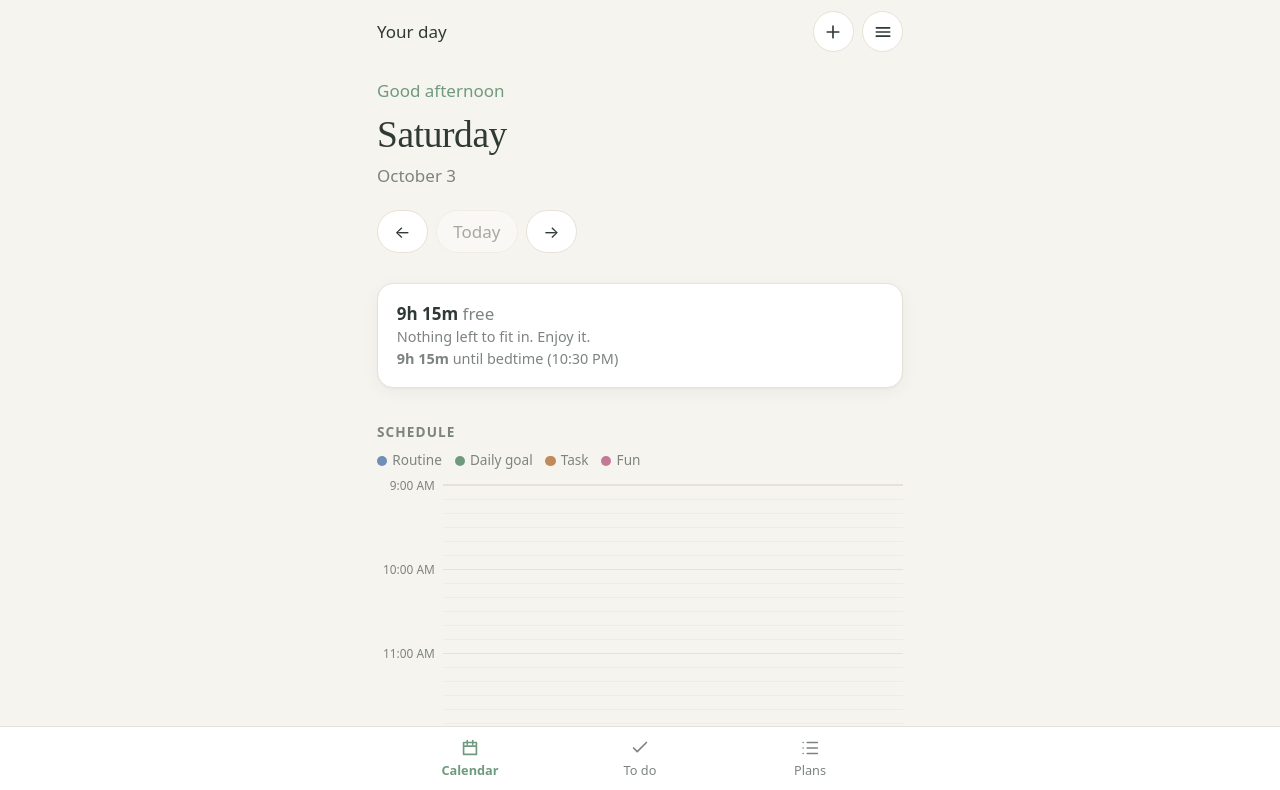
the day calendar › adds a goal at a set time from the editor
Check: the heading "Saturday" is shown, box x1=377 y1=114 x2=507 y2=155
Click the button named "Add".
click(833, 32)  # box x1=813 y1=11 x2=854 y2=52
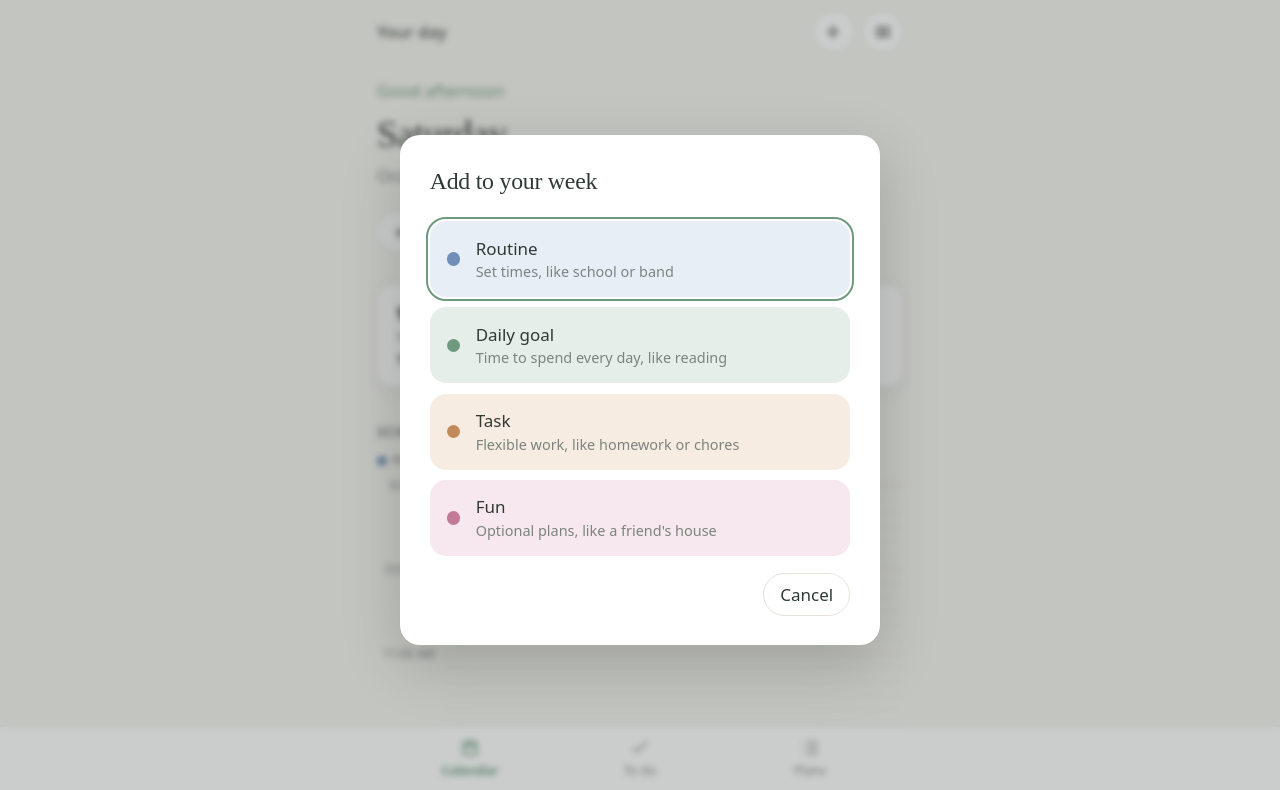
Click the button "Daily goal Time to spend every day, like reading".
click(640, 345)  # box x1=430 y1=307 x2=850 y2=383
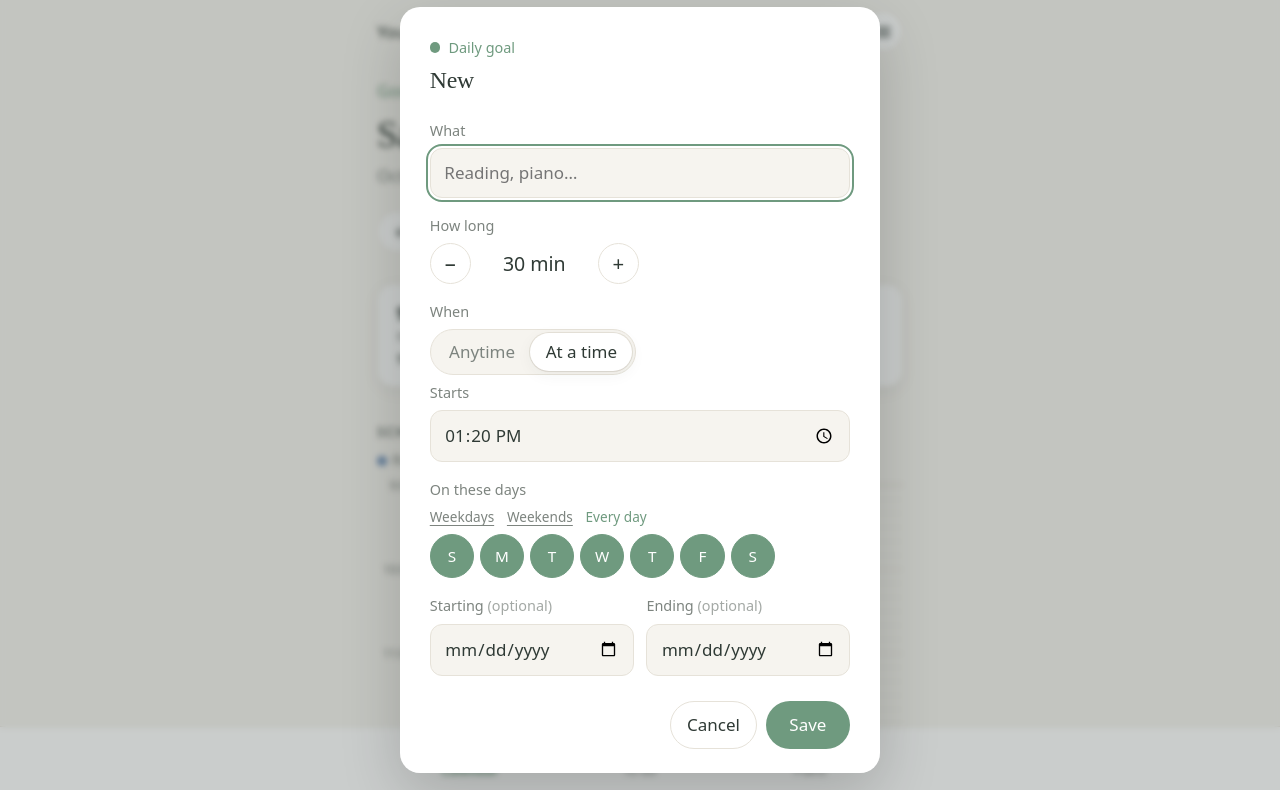
Type "Piano" into the field labelled "What".
click(640, 173); type("Piano")  # box x1=430 y1=148 x2=850 y2=198
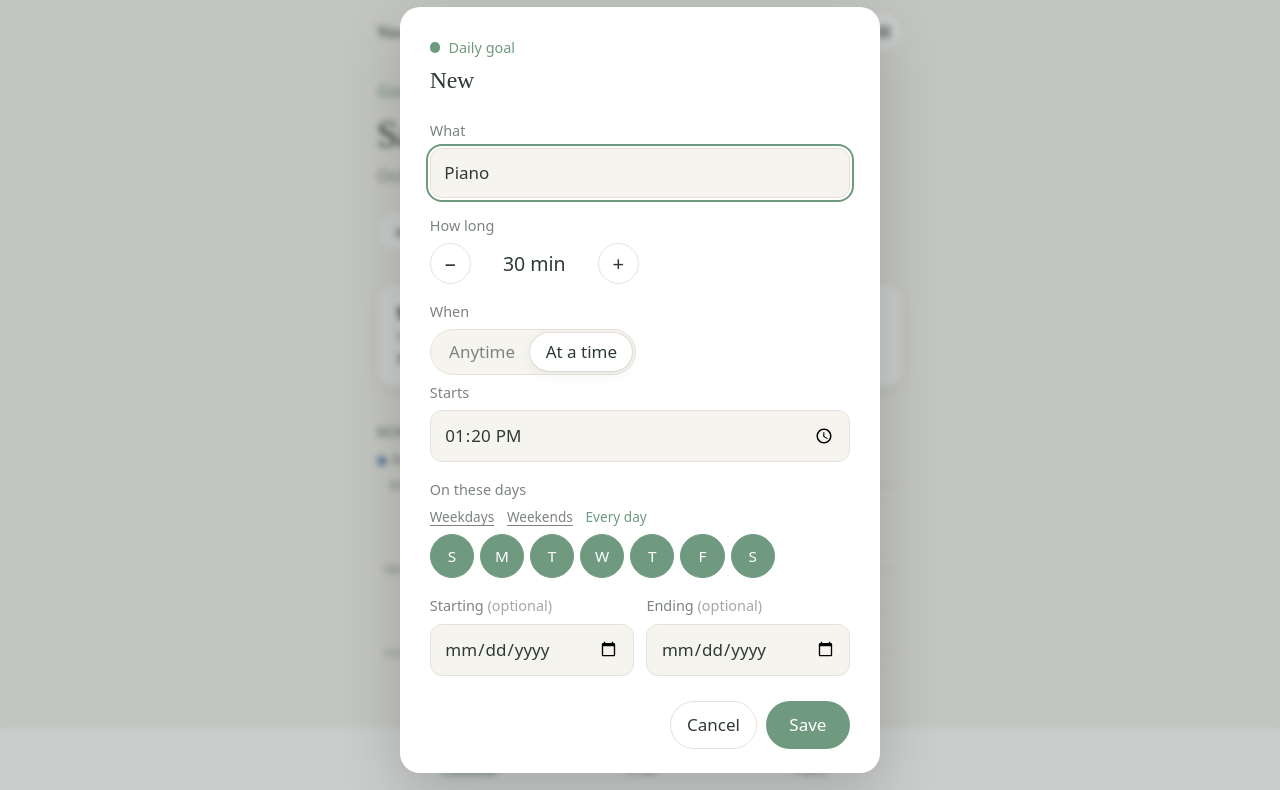
Check: the time field labelled "Starts" holds "13:20"
Replace the text in the time field labelled "Starts" with "16:30" at (640, 436), box x1=430 y1=410 x2=850 y2=462
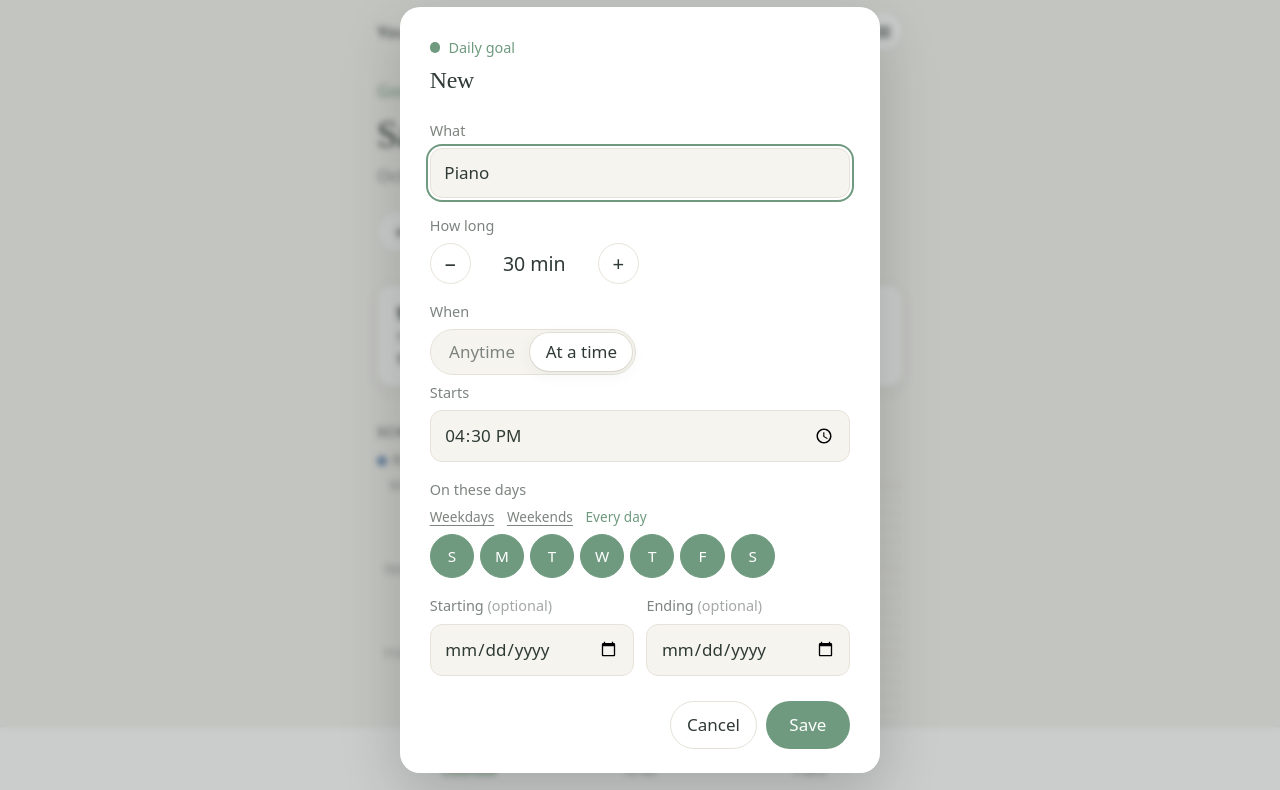
Click the button "Save".
click(808, 725)  # box x1=766 y1=701 x2=850 y2=749
(page scrolled)
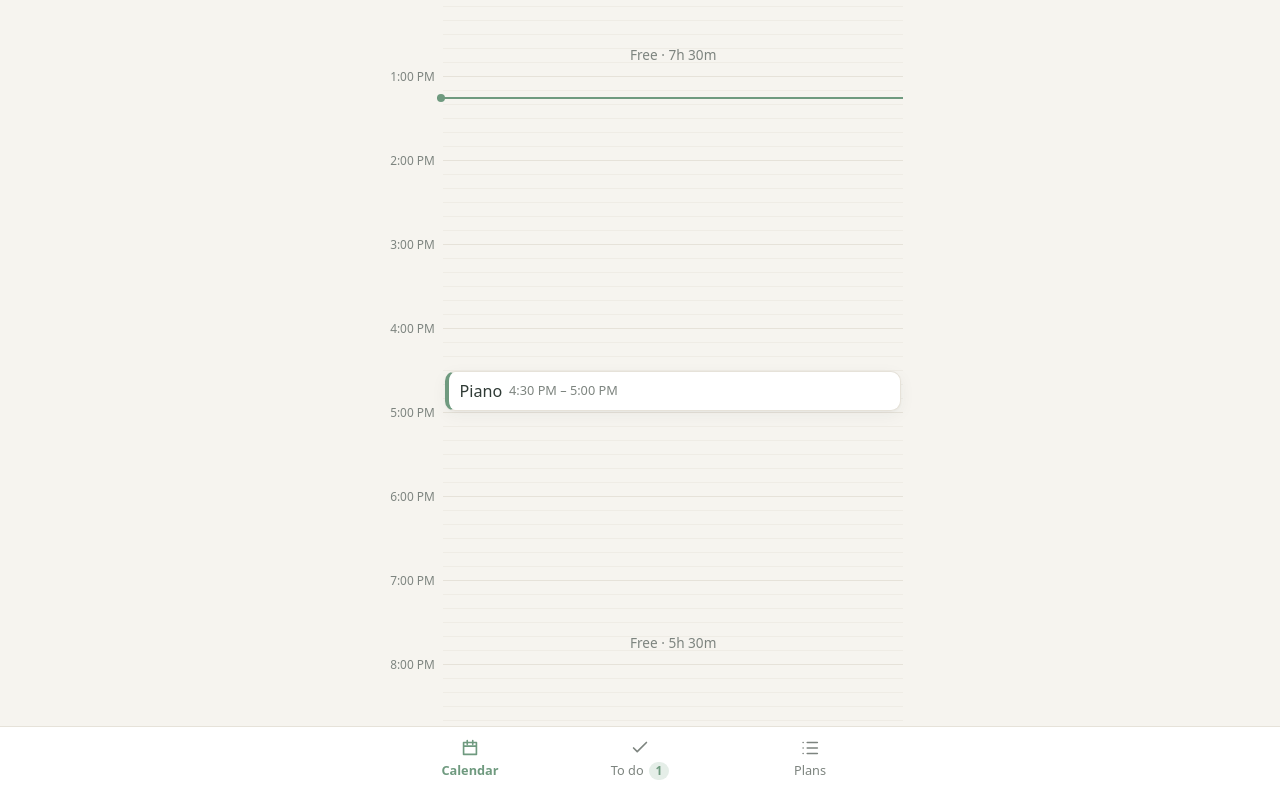
Check: the text "Piano" is shown, box x1=460 y1=381 x2=502 y2=401
